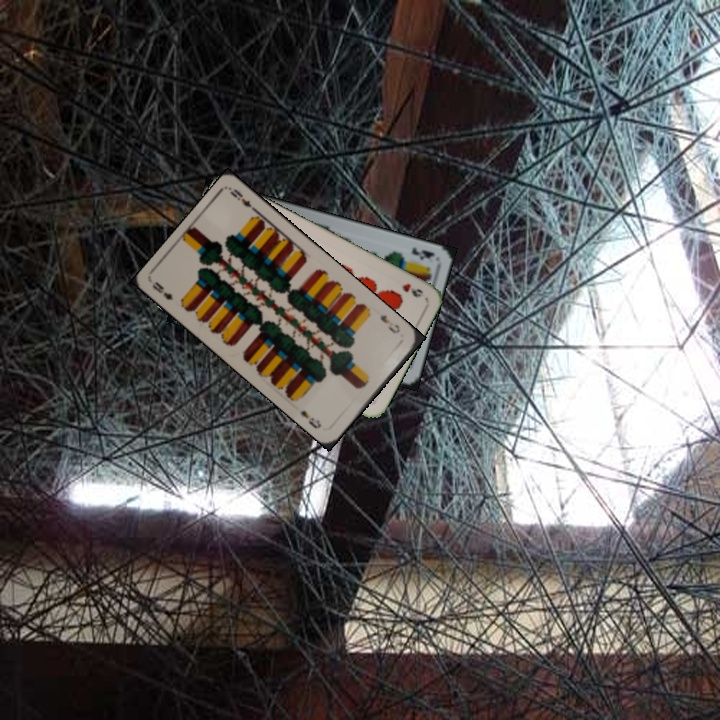E9: (148, 277, 175, 303), (376, 311, 403, 336)
EK: (408, 243, 437, 262)
H9: (398, 279, 425, 300)
